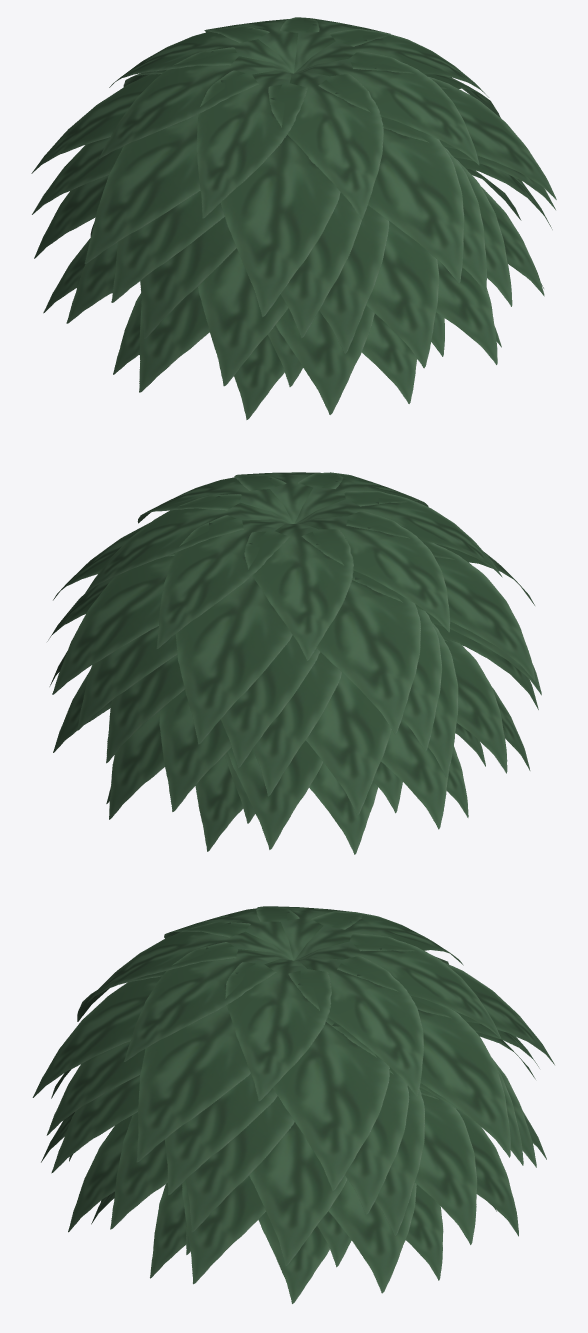
Rendered from bush.fbx.
The picture shows the model from 3 angles, top to bottom: view 1: azimuth 30°, elevation 25°; view 2: azimuth 150°, elevation 25°; view 3: azimuth 270°, elevation 25°; orthographic projection. The views are drawn at different scales.
Visible parts, largest first — view 1: bush_bottom3, bush_bottom4, bush_bottom2, bush_bottom5, bush_bottom7, bush_bottom1, bush_bottom, bush_bottom6; view 2: bush_bottom3, bush_bottom4, bush_bottom2, bush_bottom5, bush_bottom7, bush_bottom1, bush_bottom, bush_bottom6; view 3: bush_bottom3, bush_bottom4, bush_bottom2, bush_bottom5, bush_bottom1, bush_bottom7, bush_bottom, bush_bottom6.
Part boxes in pixels (<box>): bush_bottom3: <box>98,17,488,219</box>; bush_bottom4: <box>31,70,556,317</box>; bush_bottom2: <box>66,168,544,386</box>; bush_bottom5: <box>32,137,555,338</box>; bush_bottom7: <box>34,157,552,353</box>; bush_bottom1: <box>43,223,543,414</box>; bush_bottom: <box>113,293,501,419</box>; bush_bottom6: <box>139,312,444,386</box>; bush_bottom3: <box>85,472,502,660</box>; bush_bottom4: <box>52,522,535,744</box>; bush_bottom2: <box>53,638,507,815</box>; bush_bottom5: <box>47,576,541,767</box>; bush_bottom7: <box>49,623,538,796</box>; bush_bottom1: <box>109,688,530,849</box>; bush_bottom: <box>106,746,468,854</box>; bush_bottom6: <box>224,723,485,823</box>; bush_bottom3: <box>87,906,500,1101</box>; bush_bottom4: <box>32,957,554,1190</box>; bush_bottom2: <box>41,1091,546,1266</box>; bush_bottom5: <box>46,1021,539,1214</box>; bush_bottom1: <box>68,1109,518,1293</box>; bush_bottom7: <box>51,1032,536,1236</box>; bush_bottom: <box>91,1183,496,1303</box>; bush_bottom6: <box>99,1196,351,1267</box>.
Size of the model in its own units: 13.69 by 7.89 by 13.87.
